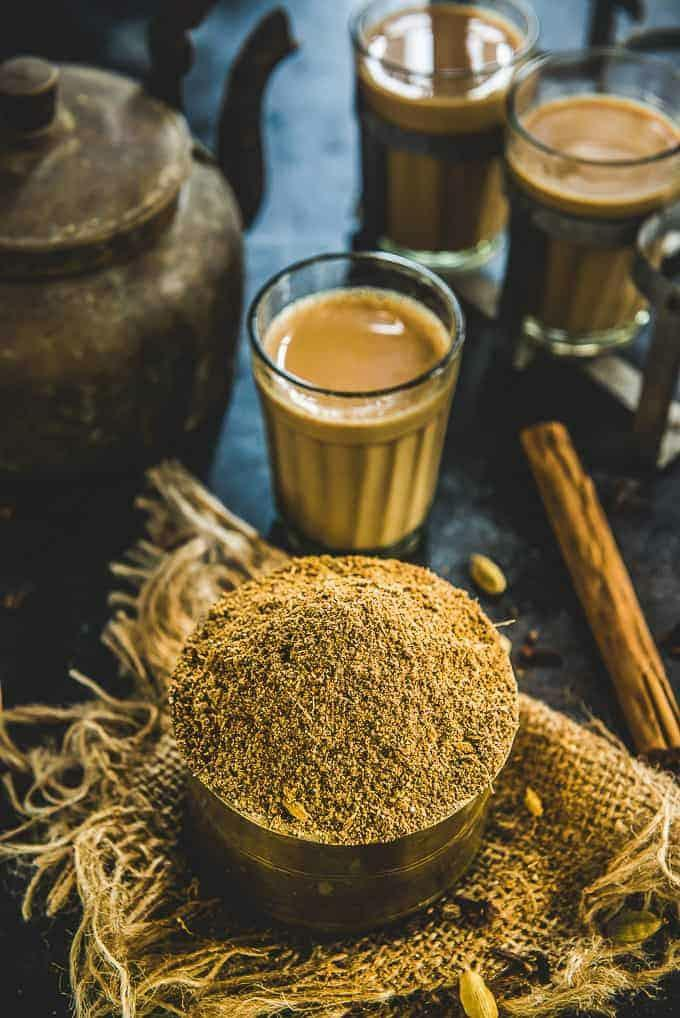Chai: (256, 292, 454, 549), (354, 1, 538, 251), (508, 95, 680, 349)
